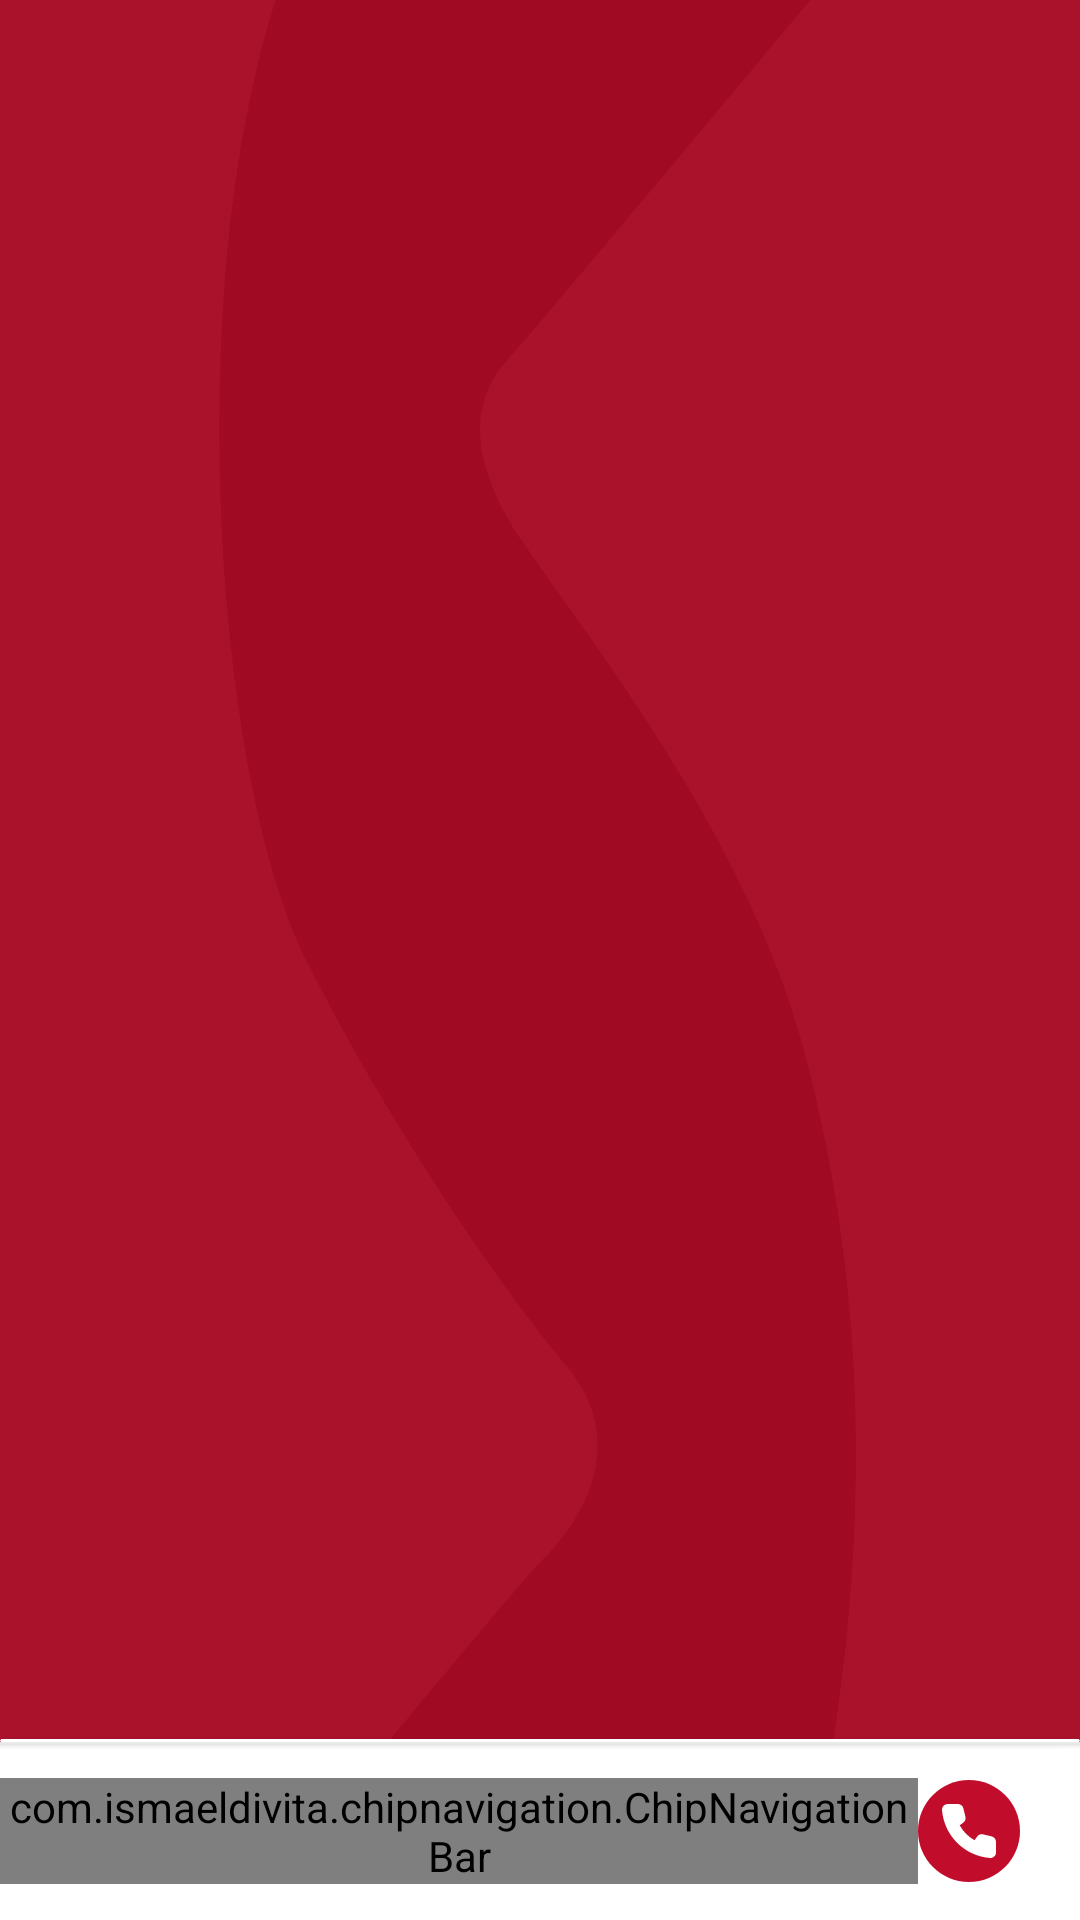

Named icons in this screenshot (1080*1920) and their bounding boxes, bbox=[x1, y1, x2, y2]:
contact: bbox=[918, 1780, 1020, 1882]
